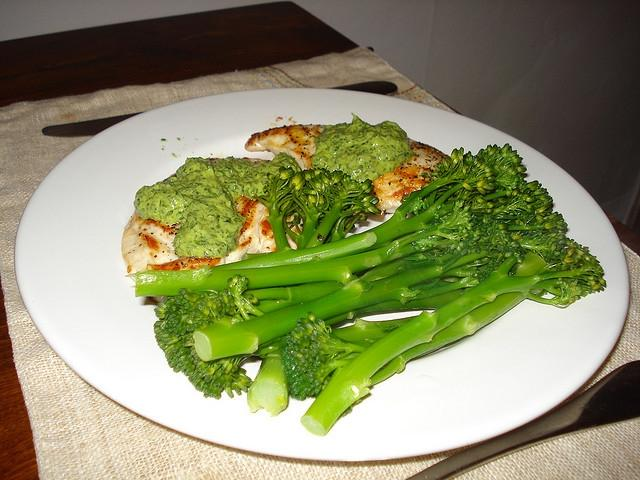broccoli: (300, 237, 606, 437), (193, 222, 578, 362), (126, 196, 495, 298), (212, 147, 496, 270), (246, 166, 382, 417), (368, 252, 548, 386), (153, 274, 266, 400), (280, 312, 376, 401), (242, 280, 344, 318), (507, 212, 568, 234)
